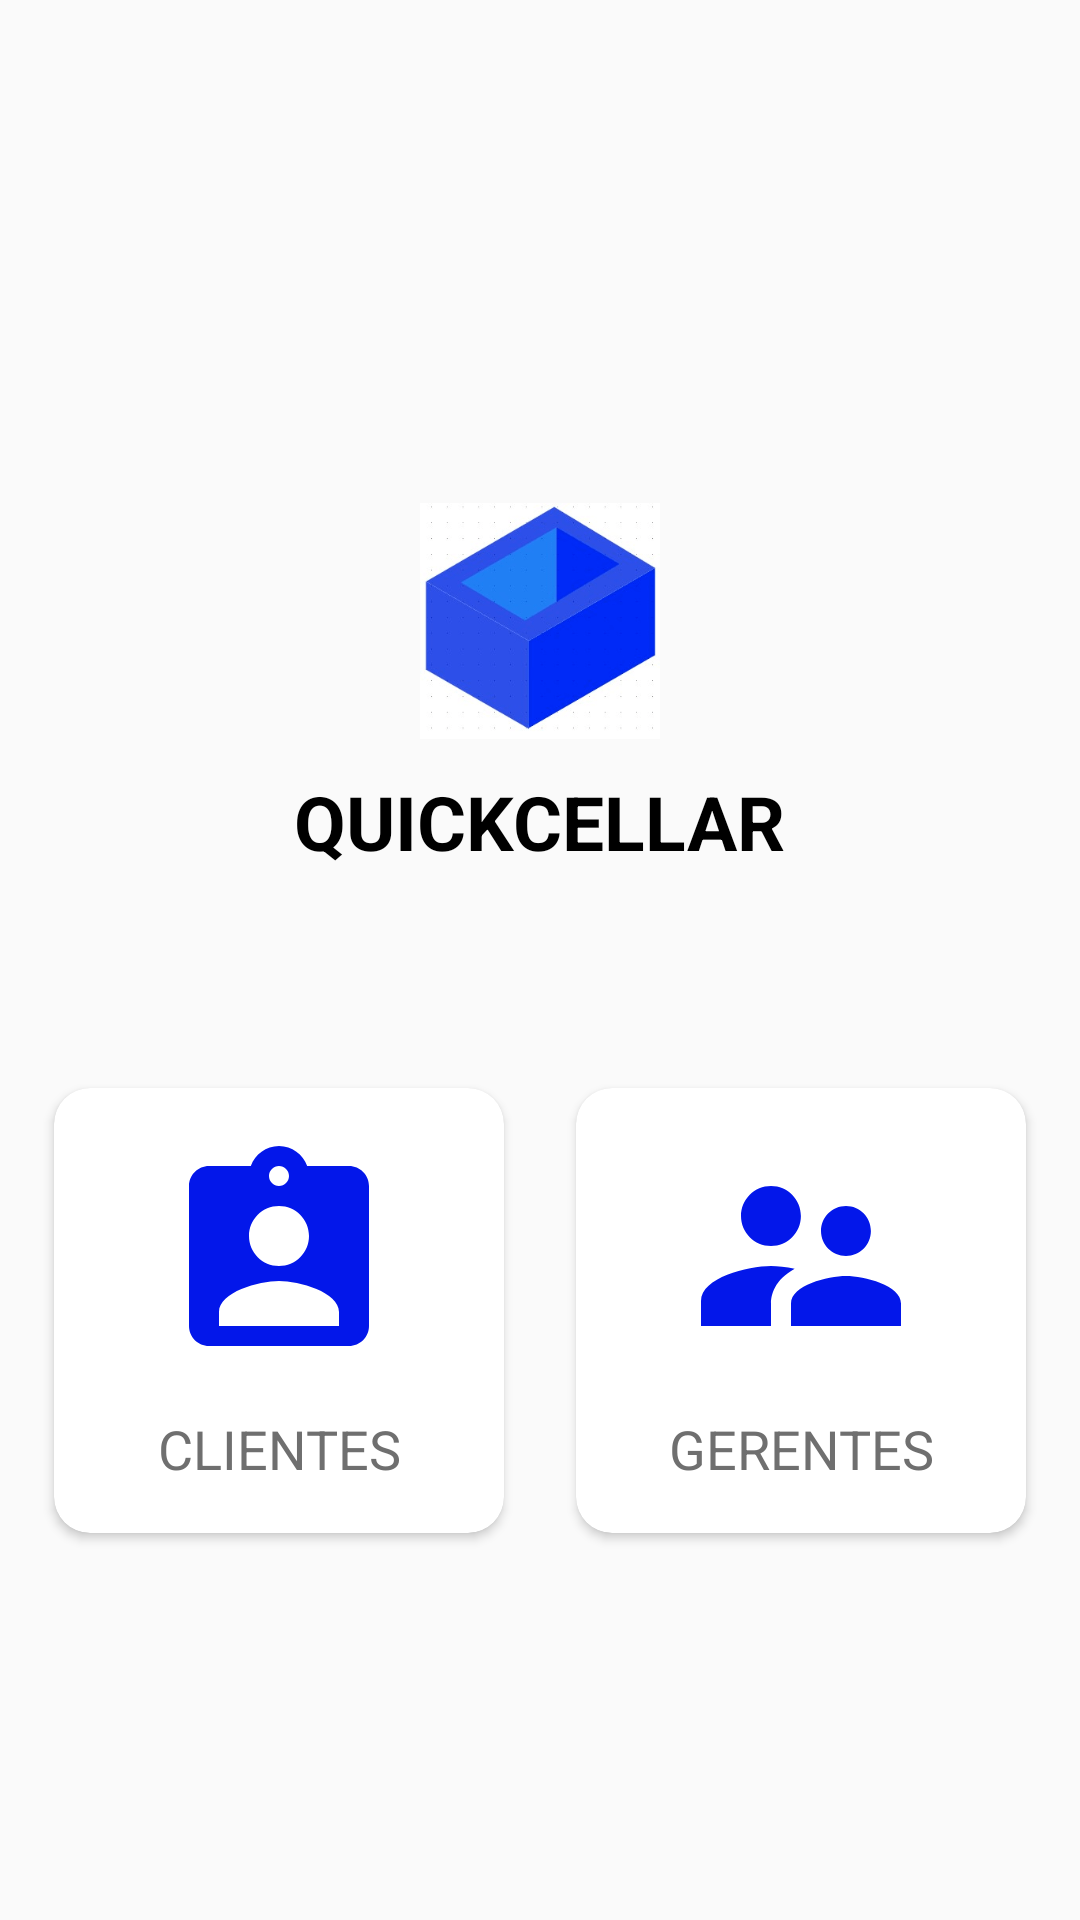

Icon click points for this 1080×1920 phone screenshot, format point (x, y):
gerente quickcellar: point (801, 1256)
